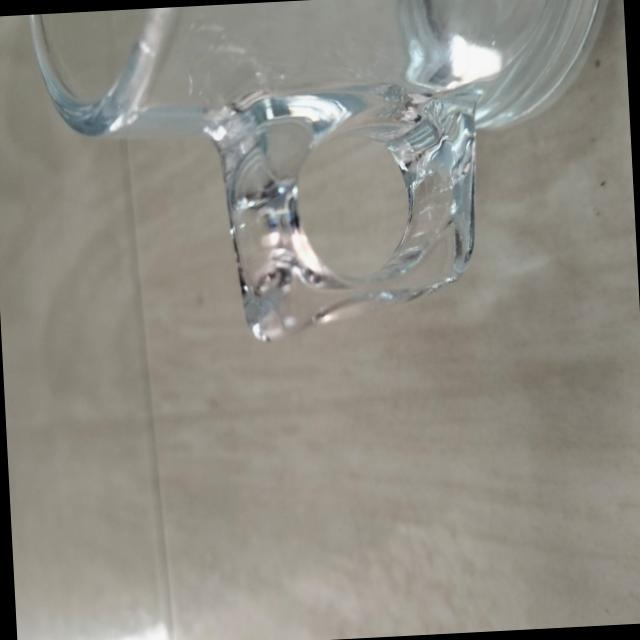glass-VX4N: (11, 0, 640, 354)
